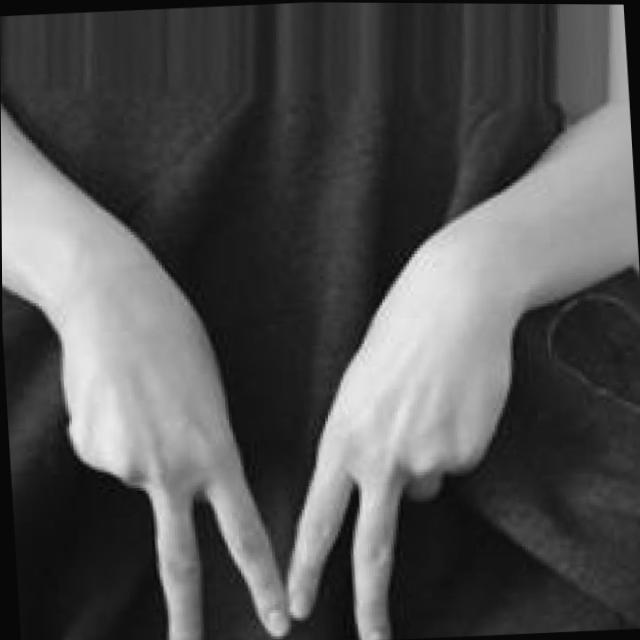M: (42, 227, 551, 640)
